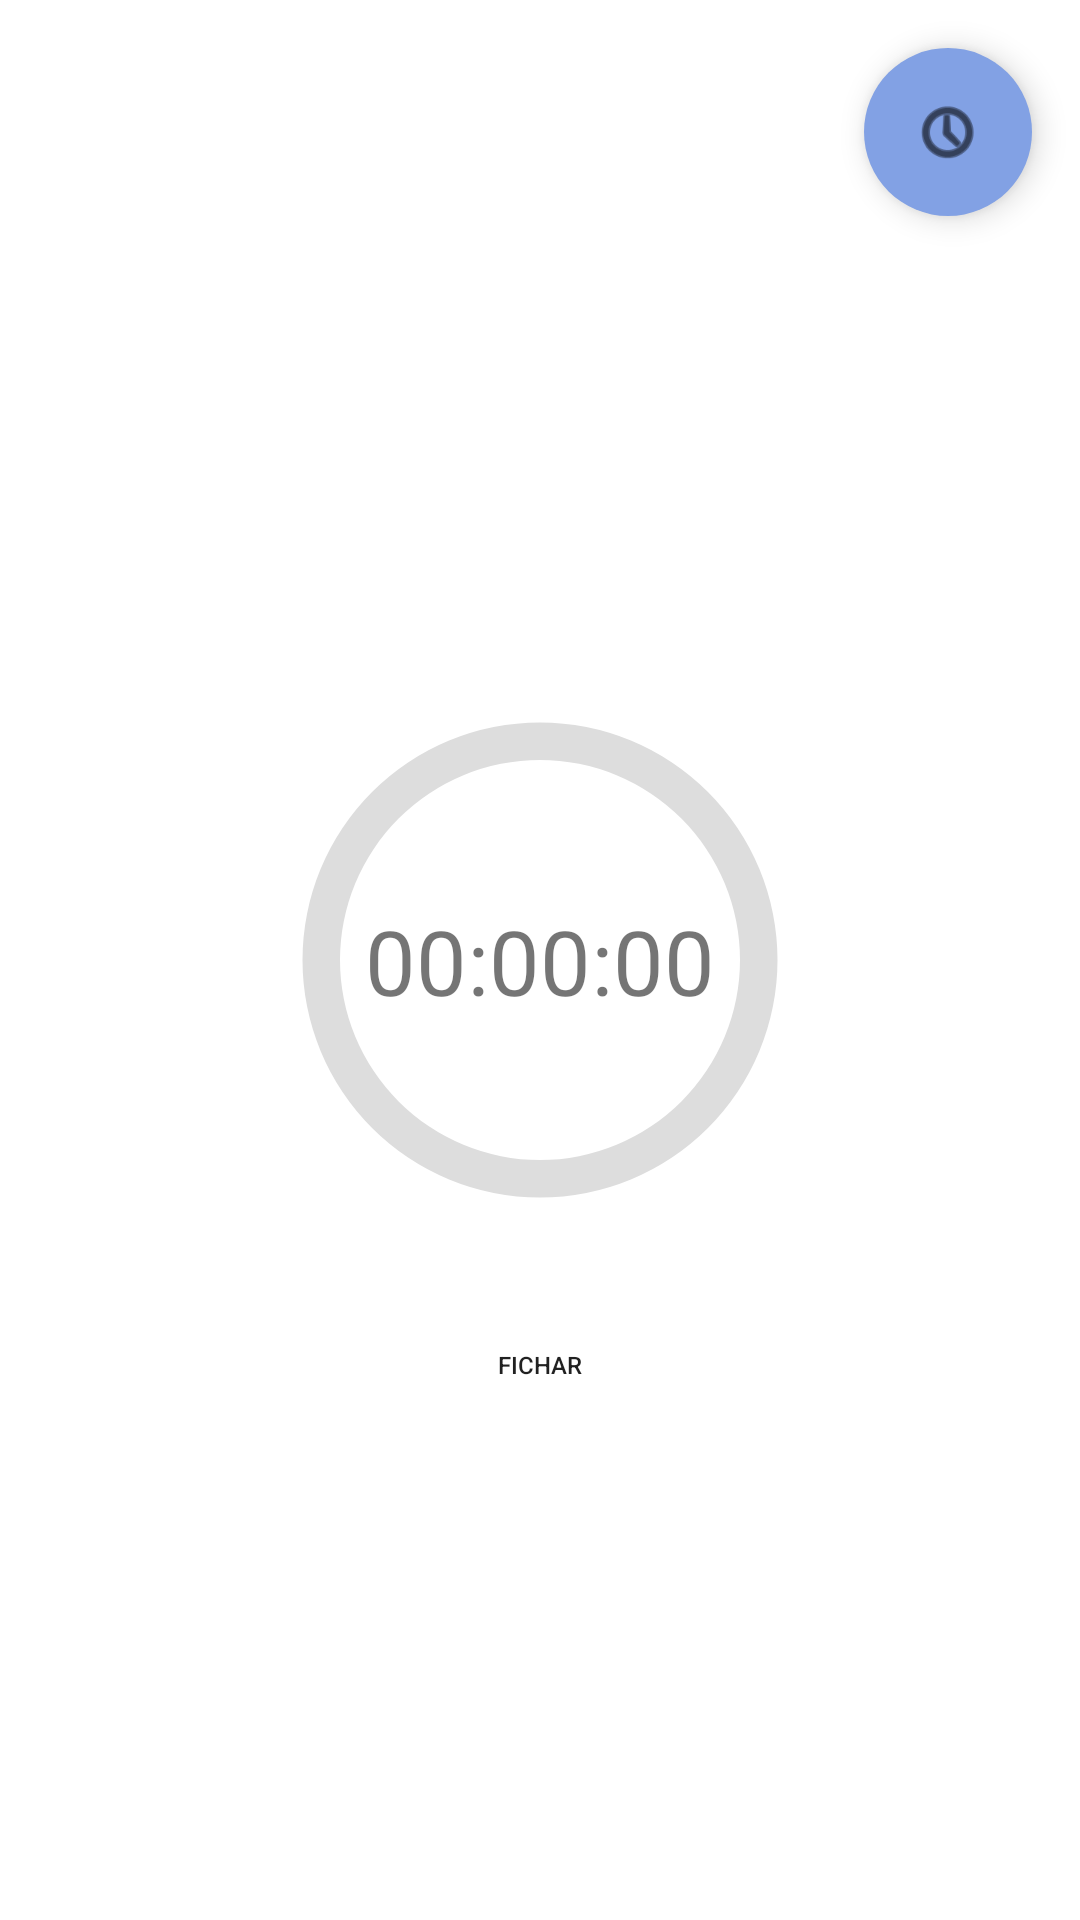

Locate icon controls on the screen. Image size 1080×1920, boxes as (x1, y1, x2, y2).
recent history: (864, 48, 1032, 216)
